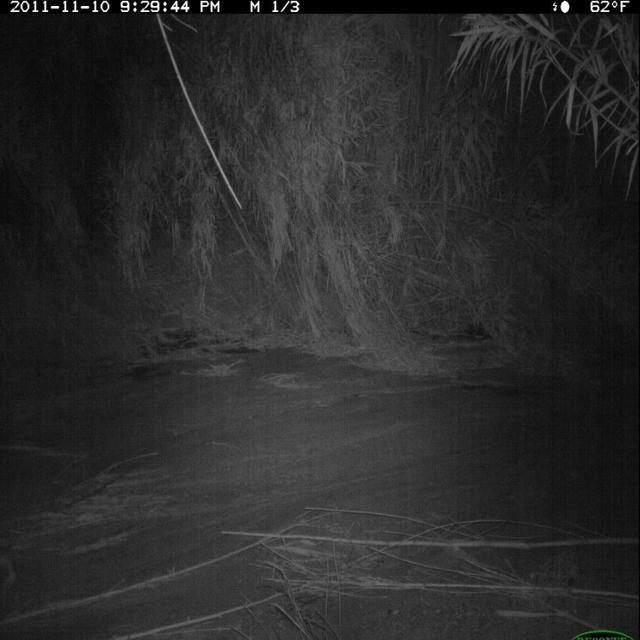bobcat: (1, 541, 29, 601)
